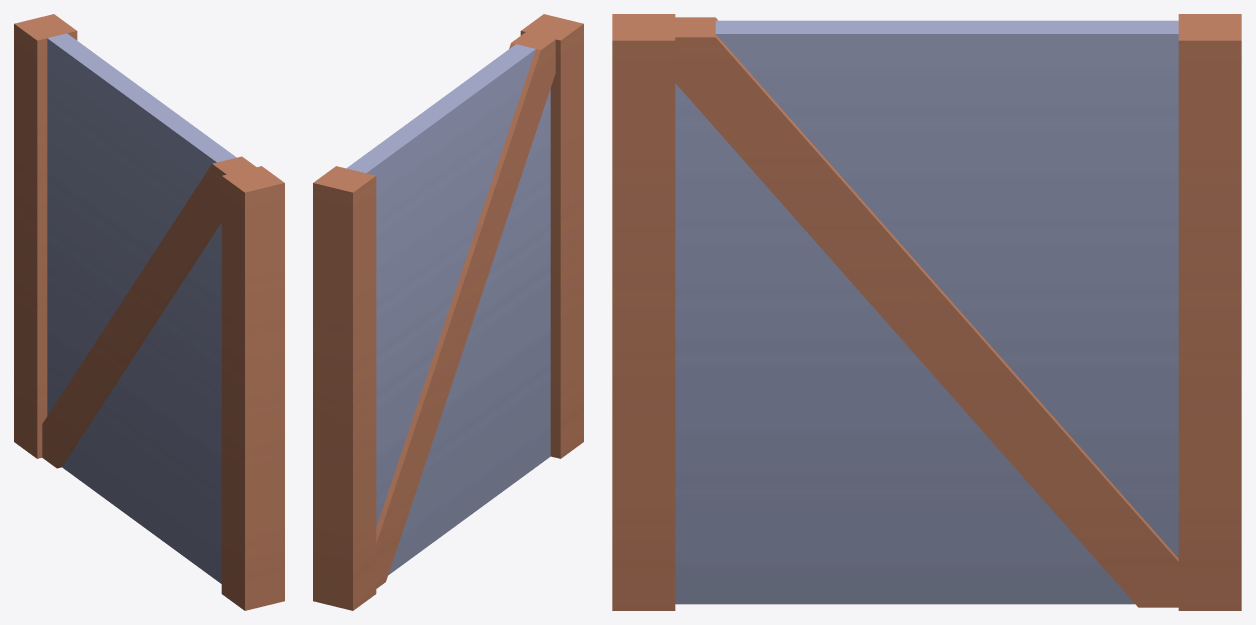
Rendered from wall-detail-diagonal.fbx.
The picture shows the model from 3 angles, left to right: view 1: azimuth 30°, elevation 25°; view 2: azimuth 150°, elevation 25°; view 3: azimuth 270°, elevation 25°; orthographic projection. The views are drawn at different scales.
Visible parts, largest first — view 1: wall-detail-diagonal; view 2: wall-detail-diagonal; view 3: wall-detail-diagonal.
Boxes of the visible parts, x1,y1,x2,y2 form: wall-detail-diagonal: (14, 14, 284, 610); wall-detail-diagonal: (313, 14, 583, 610); wall-detail-diagonal: (612, 14, 1241, 610).
Size of the model in its own units: 10 by 100 by 100.
Materials: 1 (1 with a texture image).
